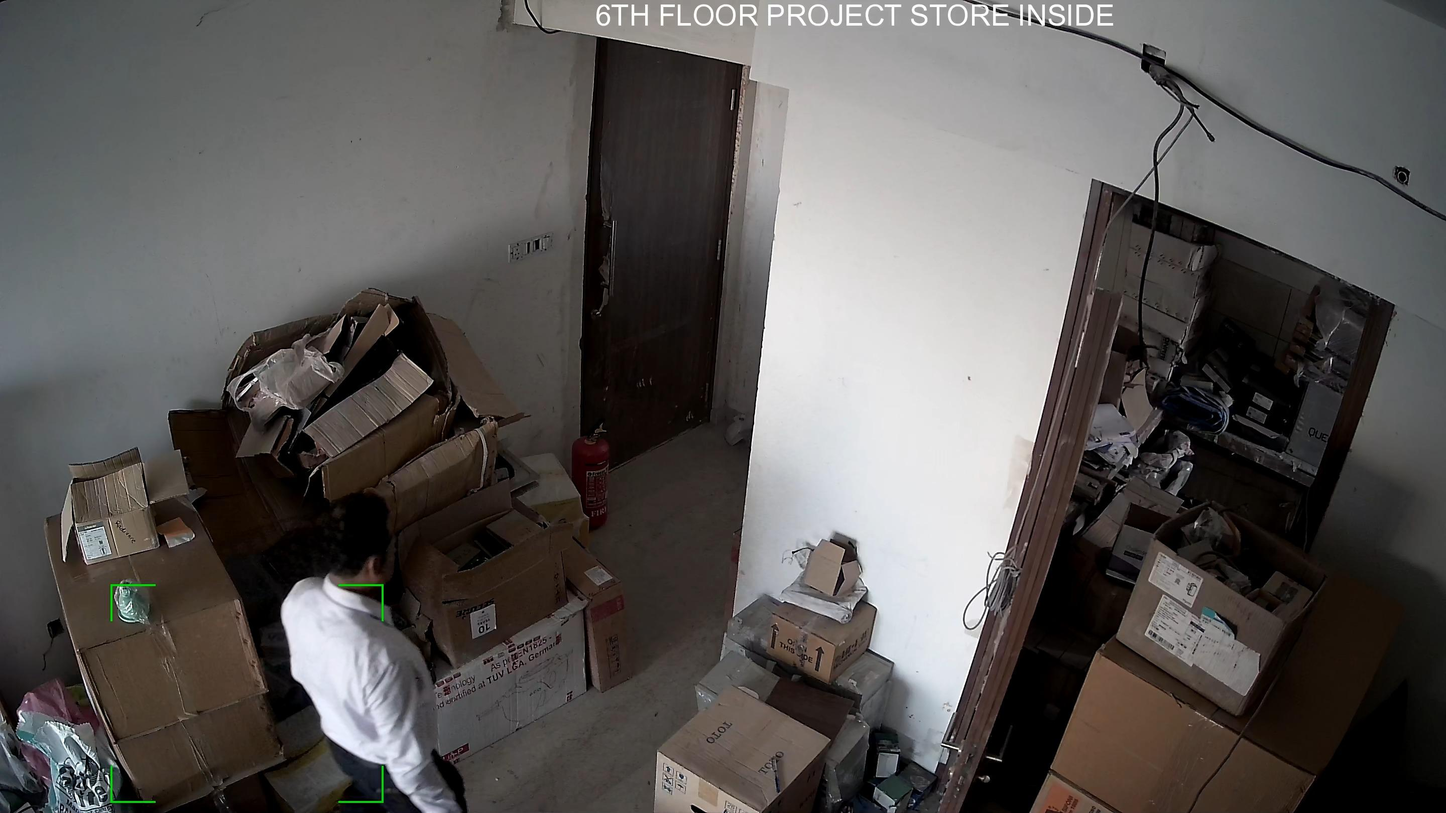Door-Close: (569, 36, 750, 460)
